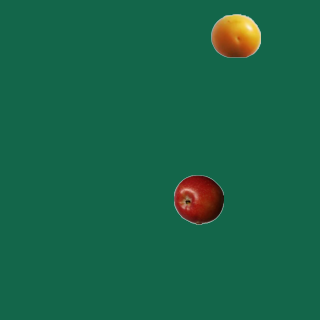Apple Braeburn: (173, 174, 223, 224)
Cherry Wax Yellow: (210, 10, 260, 60)
